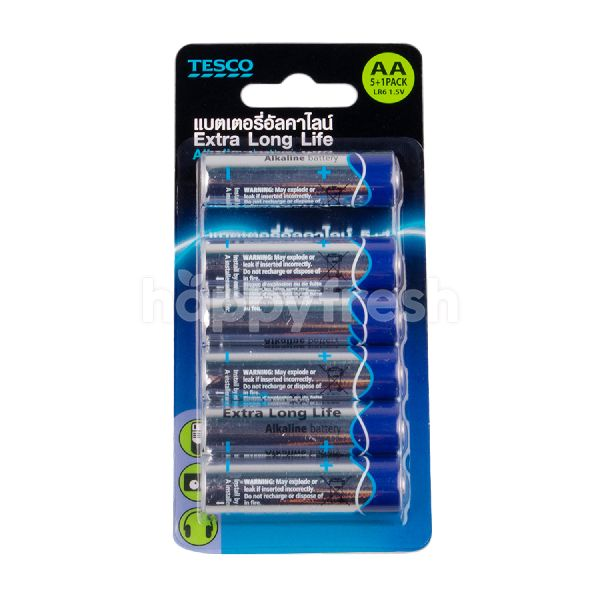Battery: (198, 149, 402, 213), (199, 401, 408, 457), (199, 458, 407, 513), (199, 346, 406, 399), (199, 292, 405, 345), (199, 238, 404, 289)
